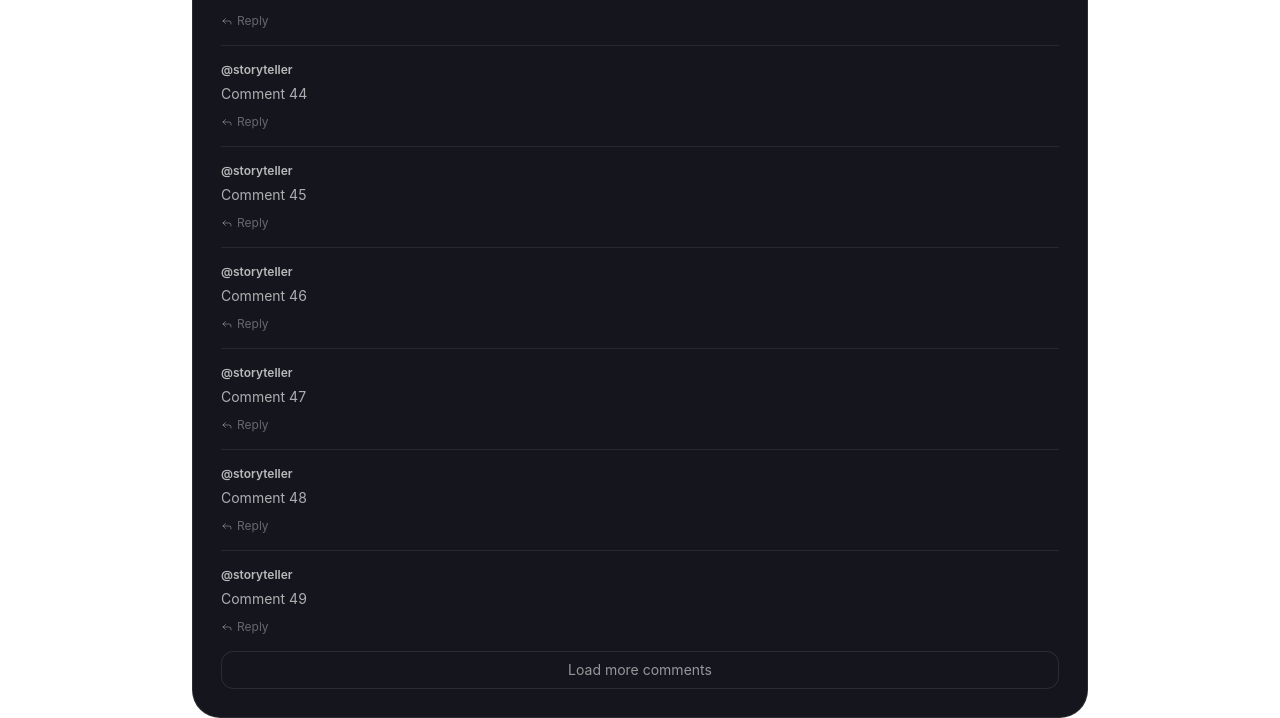
Test: OmniChatExploreWorkspace › loads additional comments with a stable timestamp and id cursor
(page scrolled)
What coordinates should you click on to do the following:
click the button "Load more comments"
I would click on:
 (640, 670)
Its box is x1=221 y1=651 x2=1059 y2=689.
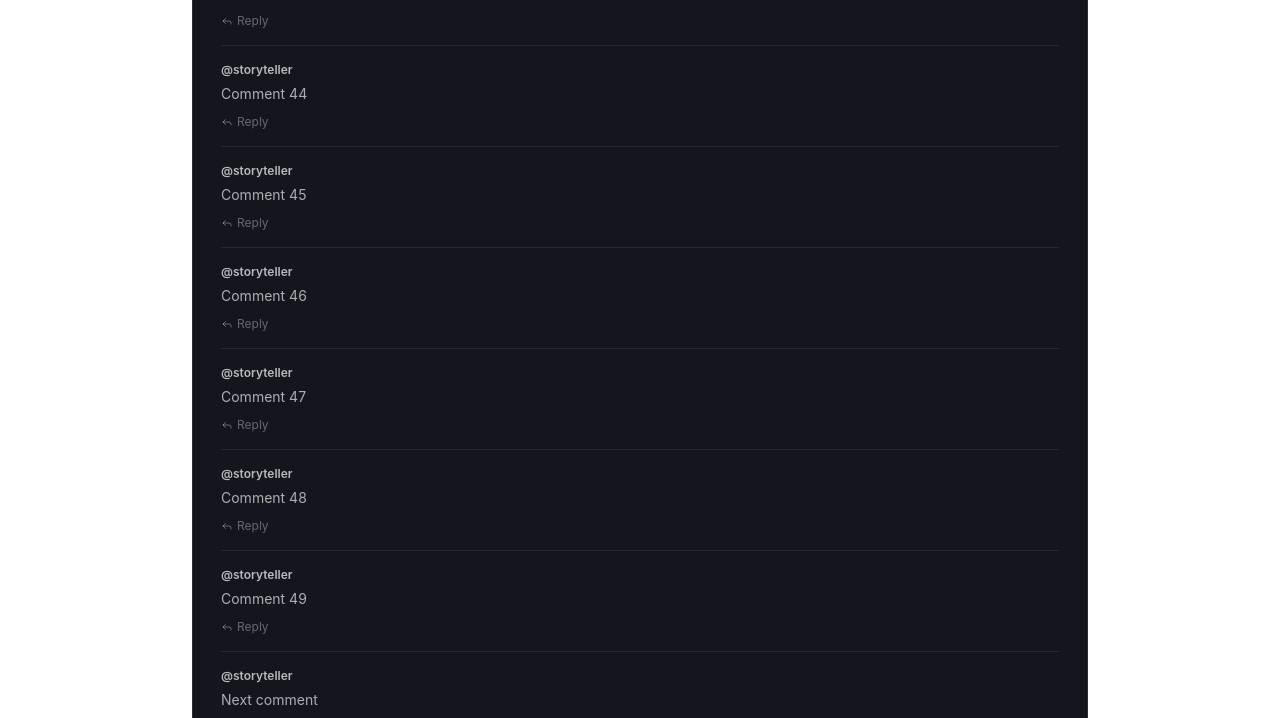
Expected: the text "Next comment" is shown, x1=221 y1=691 x2=318 y2=708
